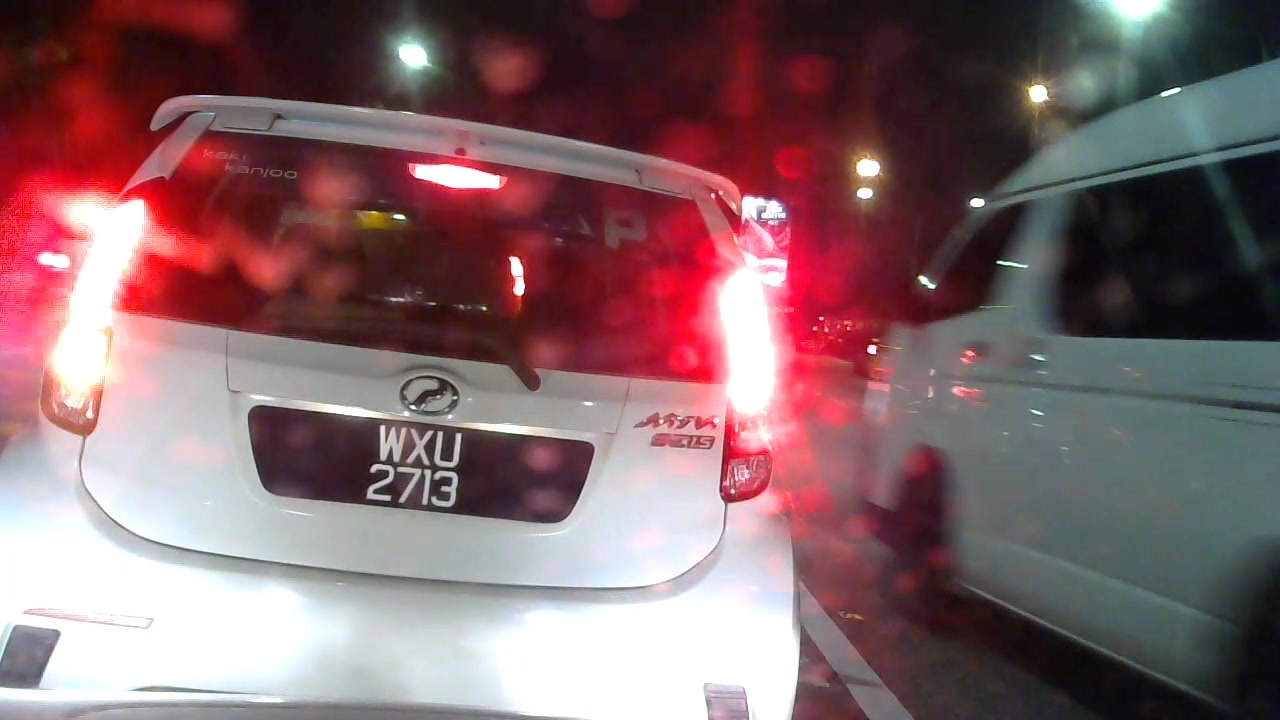Car: (38, 83, 819, 716)
